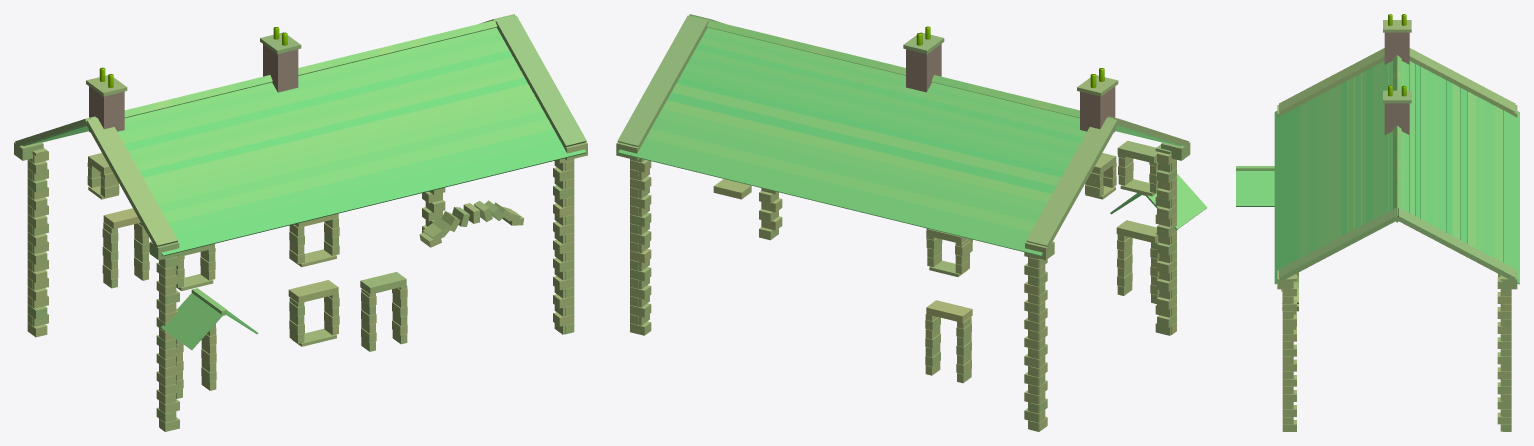
The model's file is SM_Bld_177_Stone.glb.
3 renders of one model, left to right at view 1: azimuth 30°, elevation 25°; view 2: azimuth 150°, elevation 25°; view 3: azimuth 270°, elevation 25°, orthographic. The views are drawn at different scales.
Visible parts, largest first — view 1: SM_Bld_177_Stone; view 2: SM_Bld_177_Stone; view 3: SM_Bld_177_Stone.
Boxes of the visible parts, box(x1,y1,x2,y2) form: SM_Bld_177_Stone: box(14, 14, 587, 431); SM_Bld_177_Stone: box(616, 14, 1207, 431); SM_Bld_177_Stone: box(1236, 14, 1519, 431).
Size of the model in its own units: 14.87 by 10.16 by 10.24.
